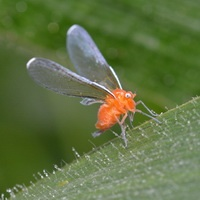insect: (26, 25, 160, 146)
